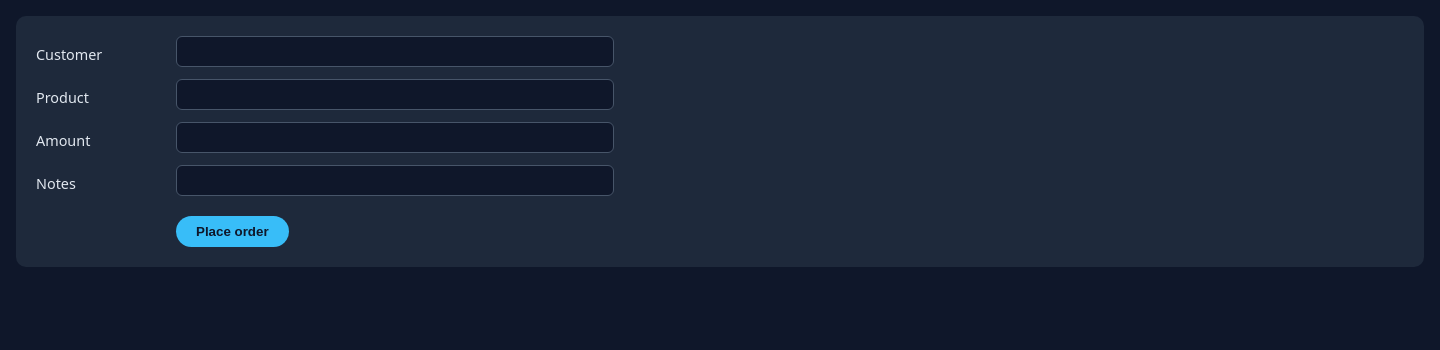
Test: PlaceOrderForm › points the field at its own error message
Click the button "Place order" at (232, 232), box x1=176 y1=216 x2=289 y2=247
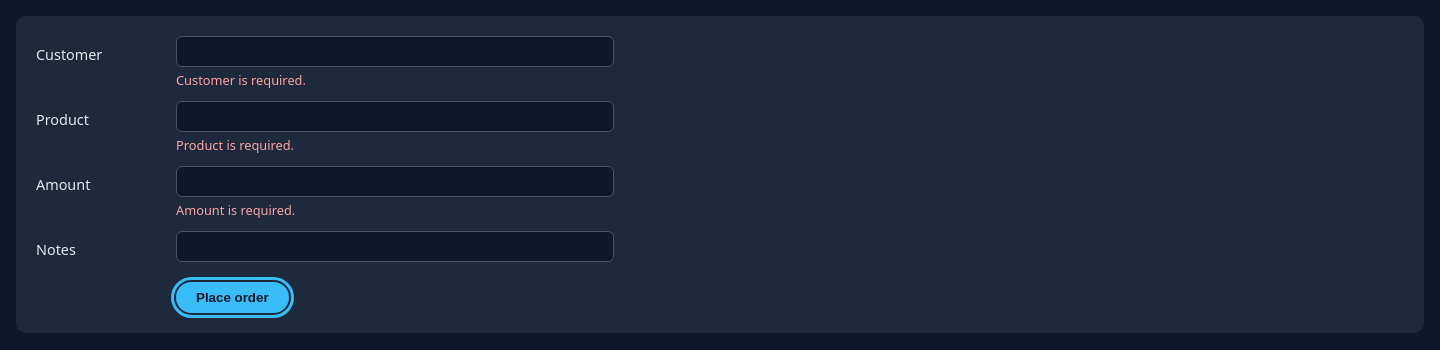
Expected: the text "Amount is required." is shown, x1=176 y1=201 x2=295 y2=219
